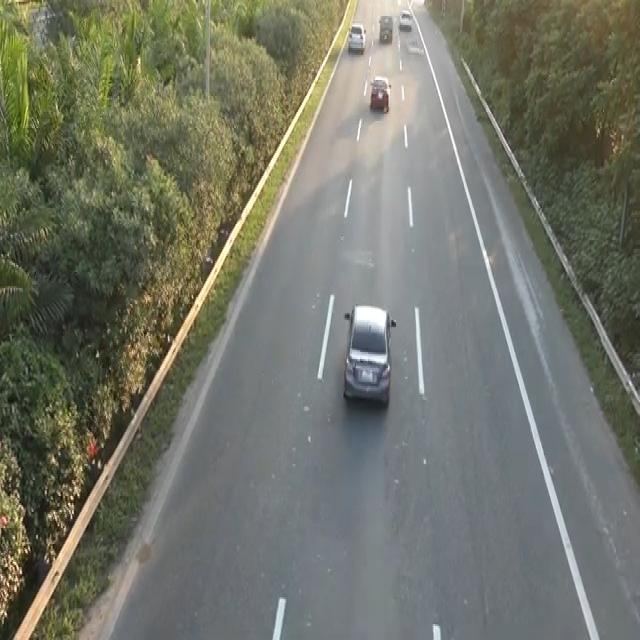bus: (340, 299, 398, 414), (368, 73, 391, 112)
